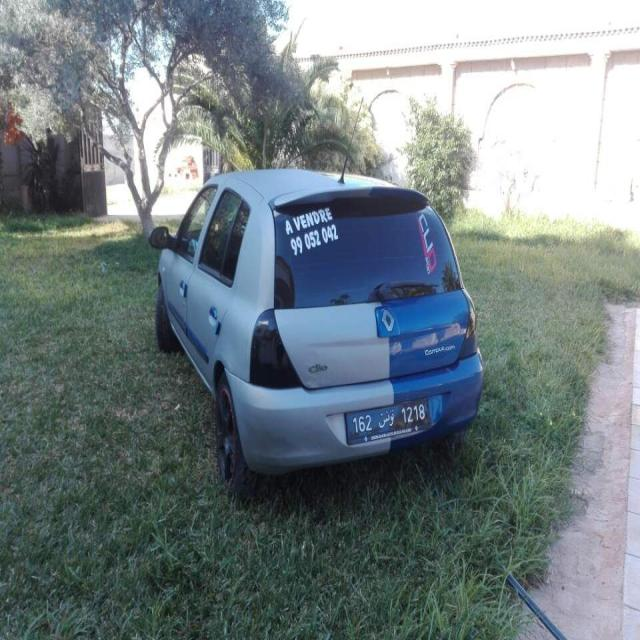LP: (343, 396, 430, 444)
